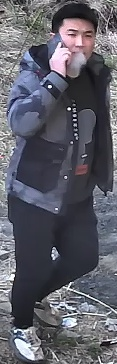phone: (15, 6, 104, 98)
